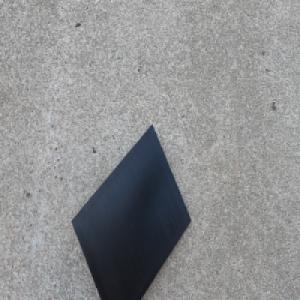PlasticPart: (69, 122, 193, 300)
